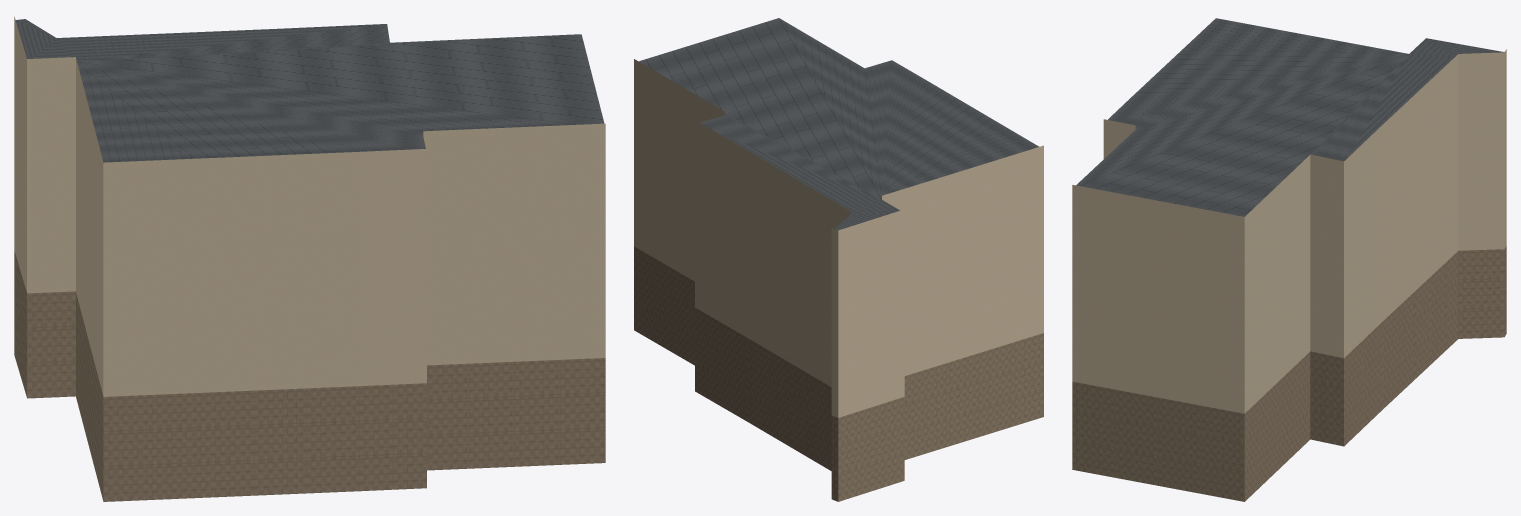
The model's file is core_0100.gltf.
3 renders of one model, left to right at view 1: azimuth 30°, elevation 25°; view 2: azimuth 150°, elevation 25°; view 3: azimuth 270°, elevation 25°, orthographic. The views are drawn at different scales.
Visible parts, largest first — view 1: core_0100; view 2: core_0100; view 3: core_0100.
Part boxes in pixels (x1,y1,x2,y2): core_0100: [14, 16, 605, 501]; core_0100: [634, 18, 1043, 501]; core_0100: [1072, 18, 1506, 501].
Size of the model in its own units: 25.16 by 16.48 by 22.77.
Materials: 3 (3 with a texture image).
